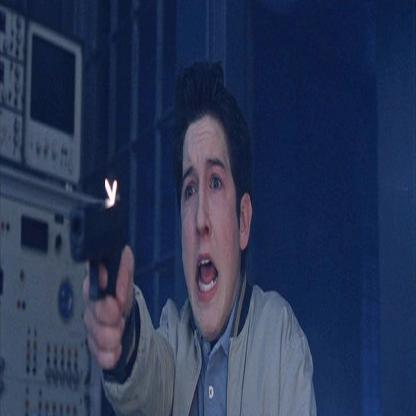gun: (61, 185, 124, 305)
